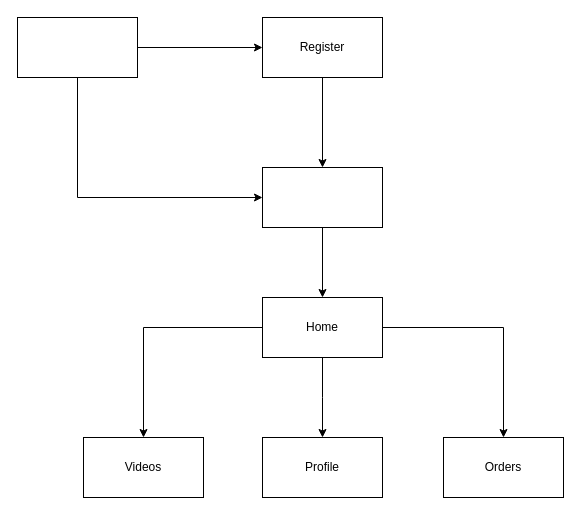
This 581x515 diagram has some shape labels left out. Here are the shapes that lost their labels. From the top down, the centre of each, then its label:
At (x=77, y=47): "Landing".
At (x=322, y=197): "Login".
